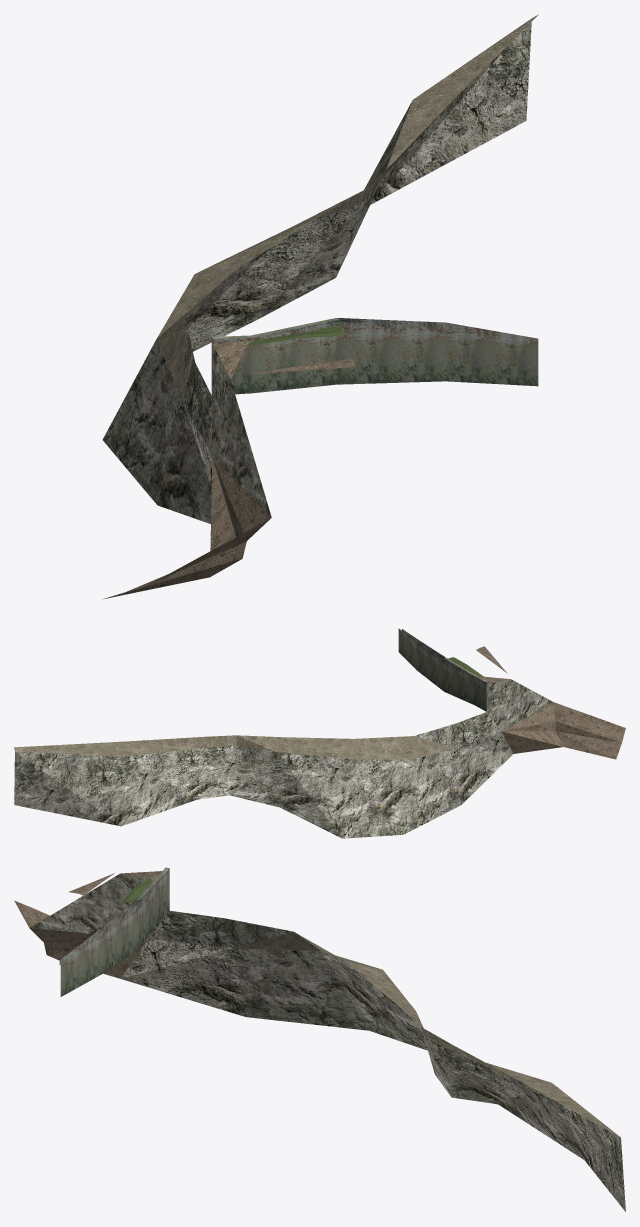
Rendered from cs_landbit_24.obj.
3 renders of one model, top to bottom at view 1: azimuth 30°, elevation 25°; view 2: azimuth 150°, elevation 25°; view 3: azimuth 270°, elevation 25°, orthographic. The views are drawn at different scales.
Visible parts, largest first — view 1: cs_landbit_24; view 2: cs_landbit_24; view 3: cs_landbit_24.
Boxes of the visible parts, box(x1,y1,x2,y2) form: cs_landbit_24: box(102, 14, 538, 599); cs_landbit_24: box(14, 628, 625, 838); cs_landbit_24: box(14, 867, 625, 1211).
Size of the model in its own units: 206 by 52.54 by 184.
5 materials, 5 textured.
